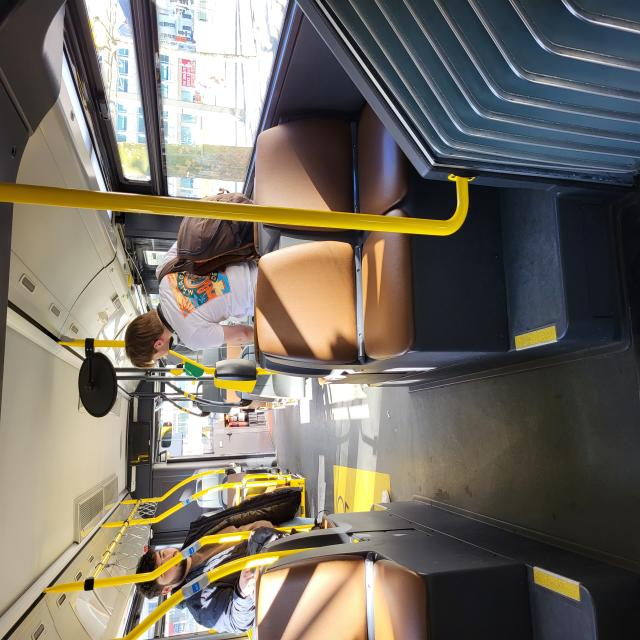asiento-libre: (203, 338, 324, 554), (318, 340, 406, 546), (0, 339, 63, 572), (97, 290, 128, 330), (177, 292, 193, 325)
